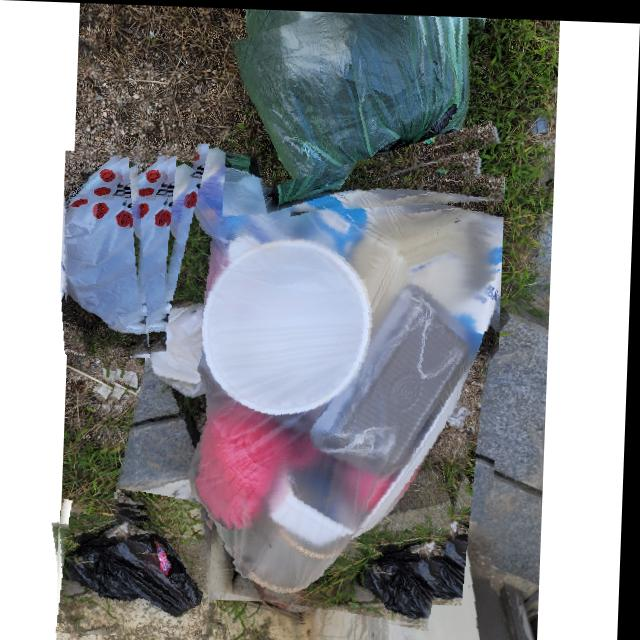general_trashbag: (232, 10, 506, 212)
other_trashbag: (101, 142, 505, 622), (64, 152, 153, 354), (63, 513, 214, 632)
